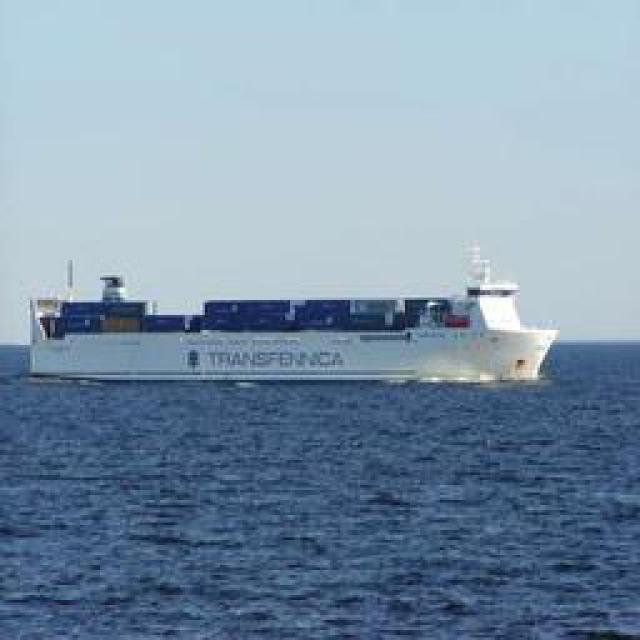Ship: (25, 264, 558, 384)
